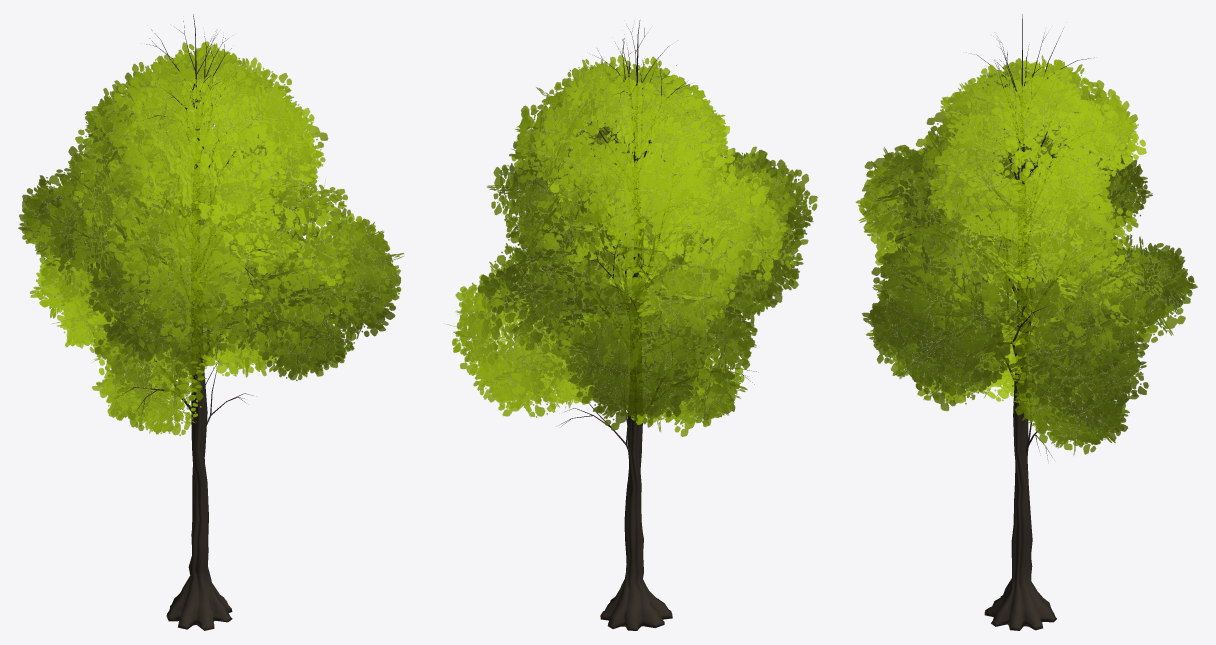
Rendered from Tree4.glb.
The picture shows the model from 3 angles, left to right: view 1: azimuth 30°, elevation 25°; view 2: azimuth 150°, elevation 25°; view 3: azimuth 270°, elevation 25°; orthographic projection.
Visible parts, largest first — view 1: Broadleaf_Tree 2_Leaves_LOD0, Tree_2_LOD0; view 2: Broadleaf_Tree 2_Leaves_LOD0, Tree_2_LOD0; view 3: Broadleaf_Tree 2_Leaves_LOD0, Tree_2_LOD0.
Boxes of the visible parts, x1=… form: Broadleaf_Tree 2_Leaves_LOD0: x1=18, y1=41, x2=404, y2=435; Tree_2_LOD0: x1=119, y1=14, x2=286, y2=630; Broadleaf_Tree 2_Leaves_LOD0: x1=444, y1=55, x2=817, y2=436; Tree_2_LOD0: x1=560, y1=20, x2=756, y2=630; Broadleaf_Tree 2_Leaves_LOD0: x1=855, y1=55, x2=1197, y2=455; Tree_2_LOD0: x1=891, y1=14, x2=1118, y2=630.
Size of the model in its own units: 4.95 by 9.19 by 4.87.
2 materials, 2 textured.
